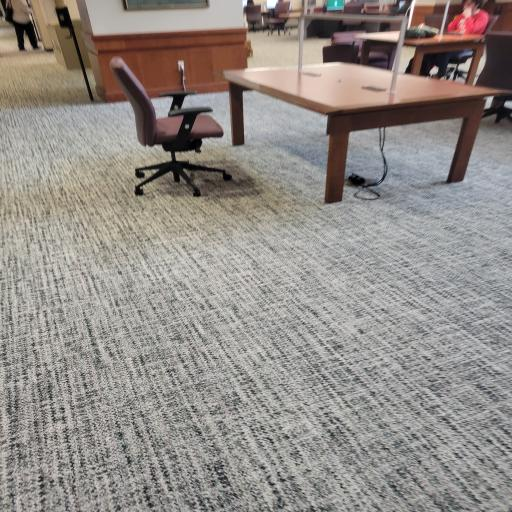chair: (114, 54, 222, 208)
table: (225, 48, 505, 210)
